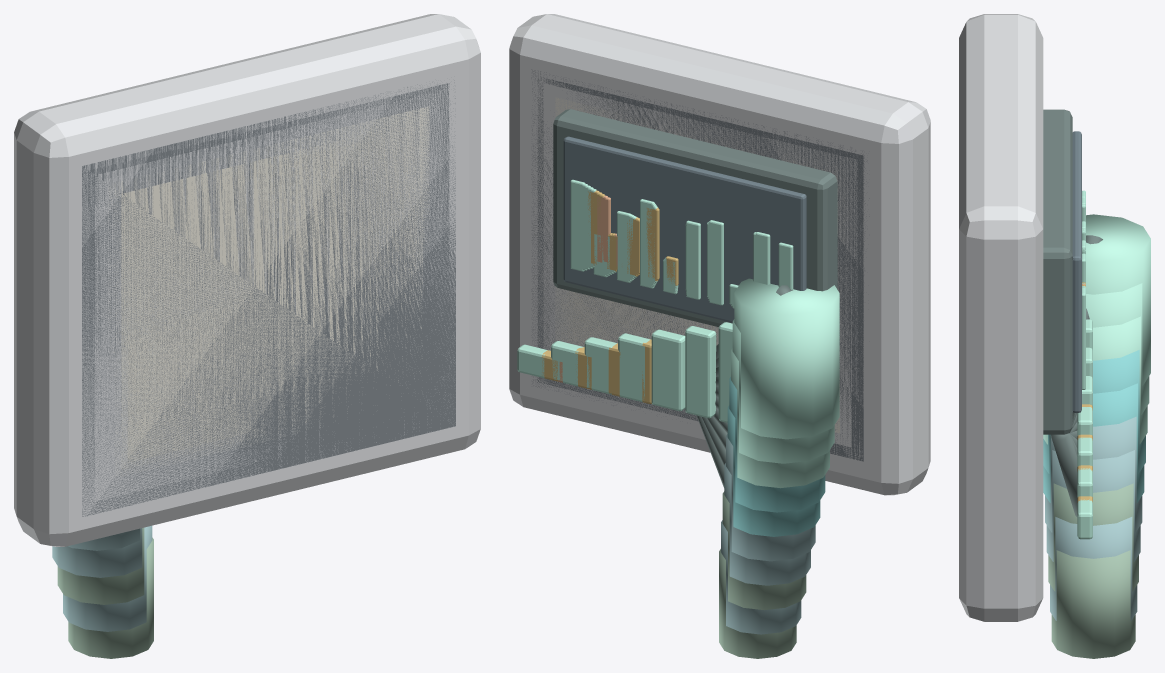
Rendered from Gear05.fbx.
The picture shows the model from 3 angles, left to right: view 1: azimuth 30°, elevation 25°; view 2: azimuth 150°, elevation 25°; view 3: azimuth 270°, elevation 25°; orthographic projection. The views are drawn at different scales.
Visible parts, largest first — view 1: Gear05_V10_Platinum, Gear05_V8_Graphite, Gear05_V2_Ivory, Gear05_V7_Graphite, Gear05_V6_Platinum, Gear05_V1_Ivory, Gear05_V4_Linen, Gear05_V5_Platinum, Gear05_V9_Platinum, Gear05_V3_Linen, Gear05_V1_Sage, Gear05_V2_Blue (+3 smaller); view 2: Gear05_V10_Platinum, Gear05_V10_Glow, Gear05_V7_Graphite, Gear05_V9_Platinum, Gear05_V10_Ink, Gear05_V10_Glass, Gear05_V6_Platinum, Gear05_V2_Glass, Gear05_V9_Glow, Gear05_V8_Glow, Gear05_V9_Glass, Gear05_V5_Platinum (+23 smaller); view 3: Gear05_V10_Platinum, Gear05_V10_Ink, Gear05_V10_Glow, Gear05_V1_Sage, Gear05_V2_Blue, Gear05_V10_Glass, Gear05_V3_Sage, Gear05_V9_Glow, Gear05_V4_Blue, Gear05_V8_Glow, Gear05_V5_Blue, Gear05_V6_Aqua (+3 smaller).
Part boxes in pixels (<box>): Gear05_V10_Platinum: <box>14,14,480,546</box>; Gear05_V8_Graphite: <box>82,80,455,516</box>; Gear05_V2_Ivory: <box>121,124,416,469</box>; Gear05_V7_Graphite: <box>88,83,449,494</box>; Gear05_V6_Platinum: <box>95,91,442,500</box>; Gear05_V1_Ivory: <box>127,136,409,462</box>; Gear05_V4_Linen: <box>108,106,429,363</box>; Gear05_V5_Platinum: <box>101,103,436,493</box>; Gear05_V9_Platinum: <box>75,71,462,523</box>; Gear05_V3_Linen: <box>114,115,422,476</box>; Gear05_V1_Sage: <box>68,537,153,658</box>; Gear05_V2_Blue: <box>63,525,152,631</box>; Gear05_V10_Platinum: <box>509,14,930,495</box>; Gear05_V10_Glow: <box>517,179,839,439</box>; Gear05_V7_Graphite: <box>537,77,863,461</box>; Gear05_V9_Platinum: <box>526,62,875,473</box>; Gear05_V10_Ink: <box>553,109,837,359</box>; Gear05_V10_Glass: <box>563,136,806,322</box>; Gear05_V6_Platinum: <box>543,83,857,413</box>; Gear05_V2_Glass: <box>593,166,772,303</box>; Gear05_V9_Glow: <box>524,183,834,463</box>; Gear05_V8_Glow: <box>528,185,829,488</box>; Gear05_V9_Glass: <box>568,145,796,319</box>; Gear05_V5_Platinum: <box>549,95,851,447</box>; Gear05_V10_Platinum: <box>959,14,1043,621</box>; Gear05_V10_Ink: <box>1043,109,1102,434</box>; Gear05_V10_Glow: <box>1077,190,1150,539</box>; Gear05_V1_Sage: <box>1051,550,1135,658</box>; Gear05_V2_Blue: <box>1050,517,1137,620</box>; Gear05_V10_Glass: <box>1072,131,1081,412</box>; Gear05_V3_Sage: <box>1048,483,1138,591</box>; Gear05_V9_Glow: <box>1077,204,1149,512</box>; Gear05_V4_Blue: <box>1046,450,1140,561</box>; Gear05_V8_Glow: <box>1043,230,1147,510</box>; Gear05_V5_Blue: <box>1045,416,1142,532</box>; Gear05_V6_Aqua: <box>1043,383,1144,502</box>.
Bounding box in the file's own units: 59.84 × 75.2 × 22.8.
